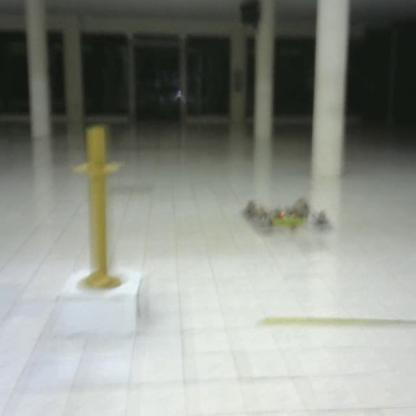pole: (69, 122, 131, 294)
